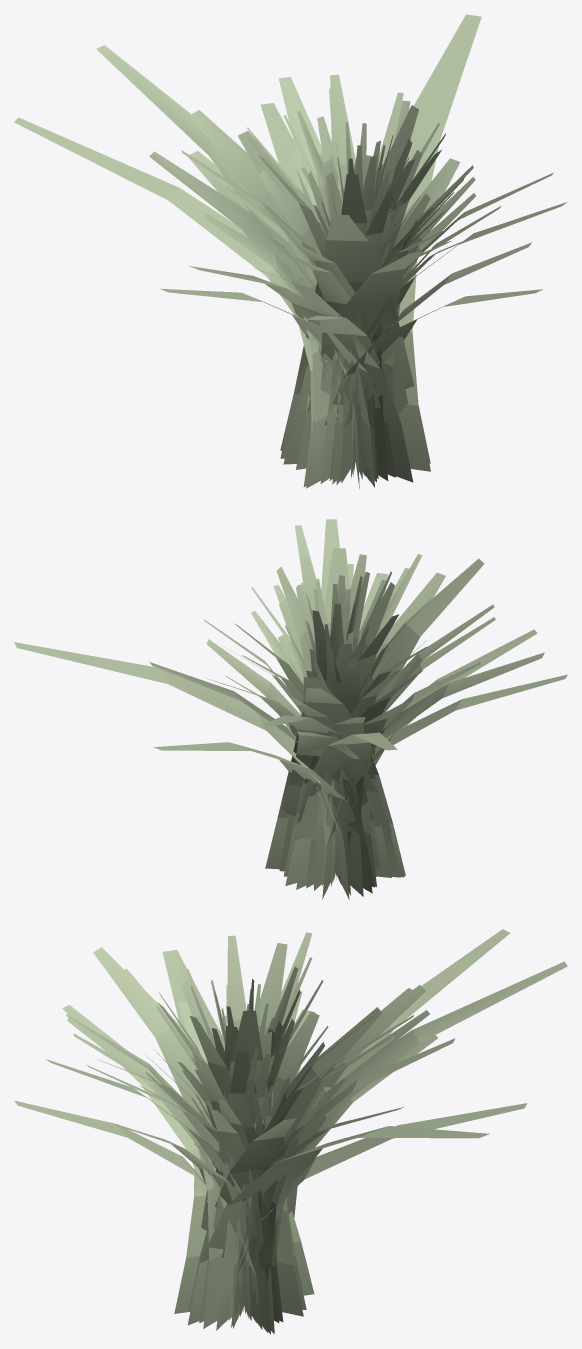
File: layer_aquatic.glb
3 views of the same model, one above another, from view 1: azimuth 30°, elevation 25°; view 2: azimuth 150°, elevation 25°; view 3: azimuth 270°, elevation 25° (orthographic). The views are drawn at different scales.
Visible parts, largest first — view 1: v0_foliage, v1_foliage, v2_foliage; view 2: v0_foliage, v1_foliage, v2_foliage; view 3: v0_foliage, v1_foliage, v2_foliage.
Part boxes in pixels (box(x1,y1,x2,y2)): v0_foliage: box(14, 14, 566, 488); v1_foliage: box(181, 74, 553, 478); v2_foliage: box(247, 115, 439, 402); v0_foliage: box(14, 519, 567, 900); v1_foliage: box(204, 525, 495, 886); v2_foliage: box(251, 571, 406, 879); v0_foliage: box(14, 929, 567, 1334); v1_foliage: box(66, 932, 413, 1319); v2_foliage: box(181, 957, 328, 1311).
Bounding box in the file's own units: 1.49 × 1 × 1.56.
